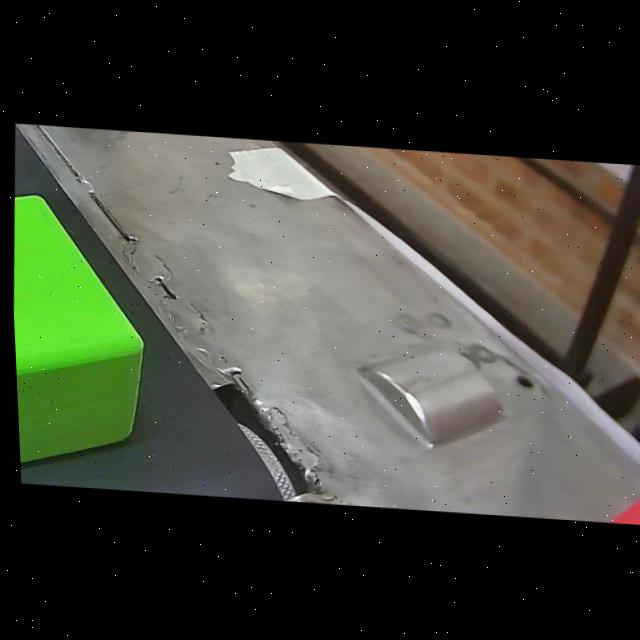greenBox: (7, 187, 160, 492)
